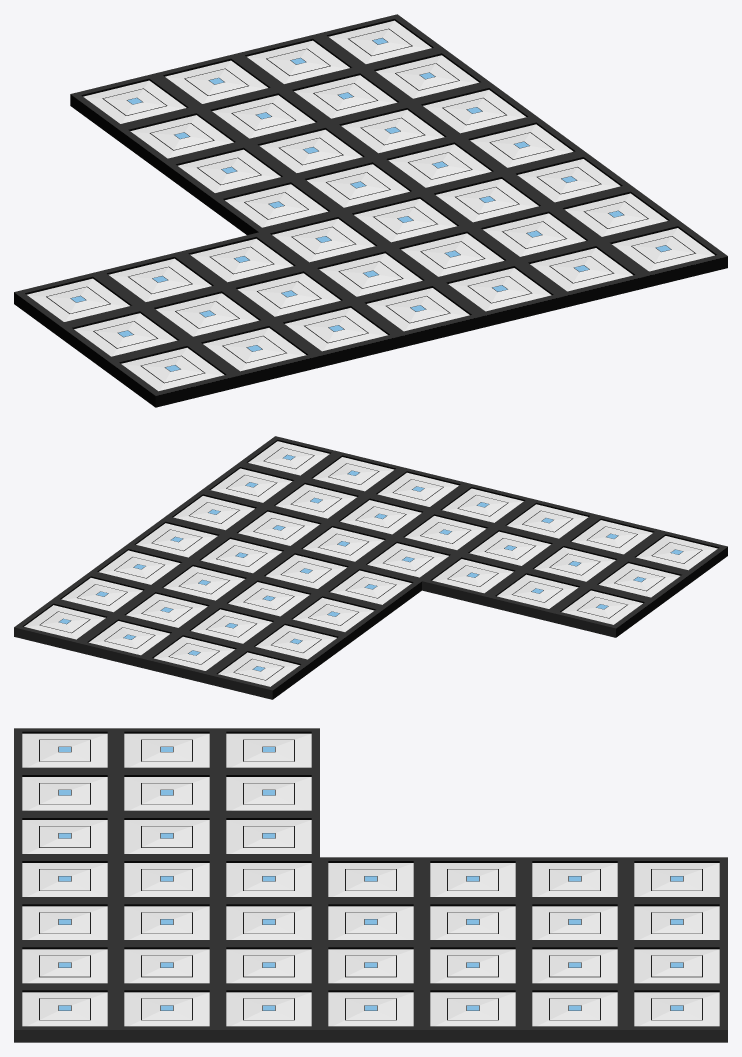
Rendered from Floor2.fbx.
3 renders of one model, top to bottom at view 1: azimuth 30°, elevation 25°; view 2: azimuth 150°, elevation 25°; view 3: azimuth 270°, elevation 25°, orthographic. The views are drawn at different scales.
Parts seen in each view (by area): view 1: Room2; view 2: Room2; view 3: Room2.
Boxes of the visible parts, bbox=[...] form: Room2: bbox=[14, 14, 727, 407]; Room2: bbox=[14, 436, 727, 699]; Room2: bbox=[14, 728, 727, 1042].
Size of the model in its own units: 28 by 0.5652 by 28.
